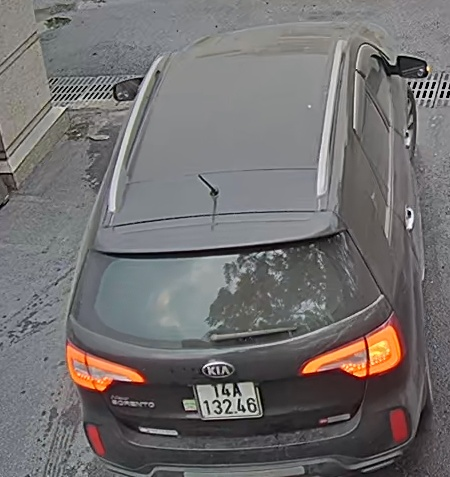vehicle plate: (190, 375, 261, 418)
